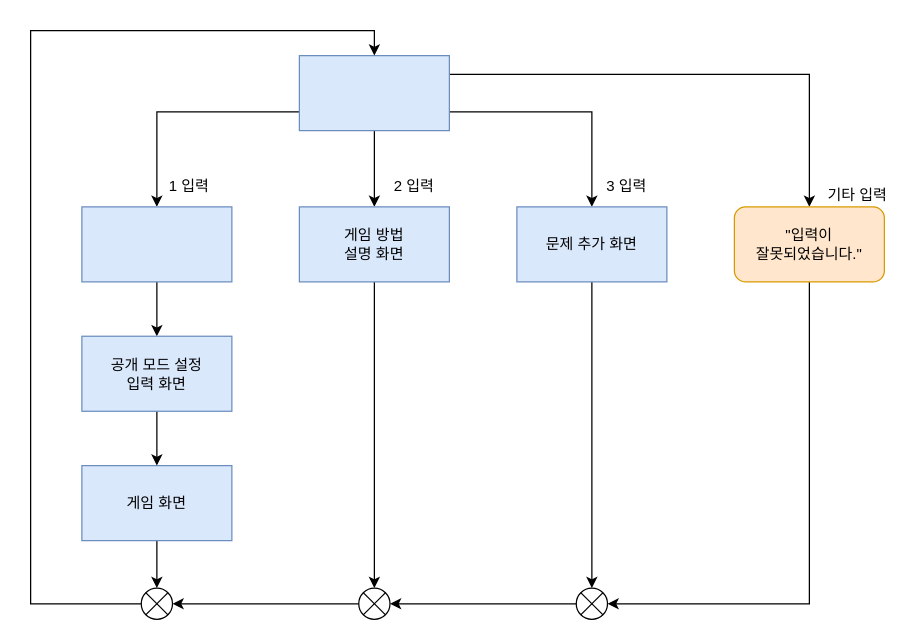
Image size: 923x641. Some labels were removed from this diagram. The shapes that lost their labels are listed below. From the top down, each one's centre as x and y in pixels, then its label:
At (373,92): "초기 메뉴 화면".
At (156,244): "문제 번호 입력 화면".
